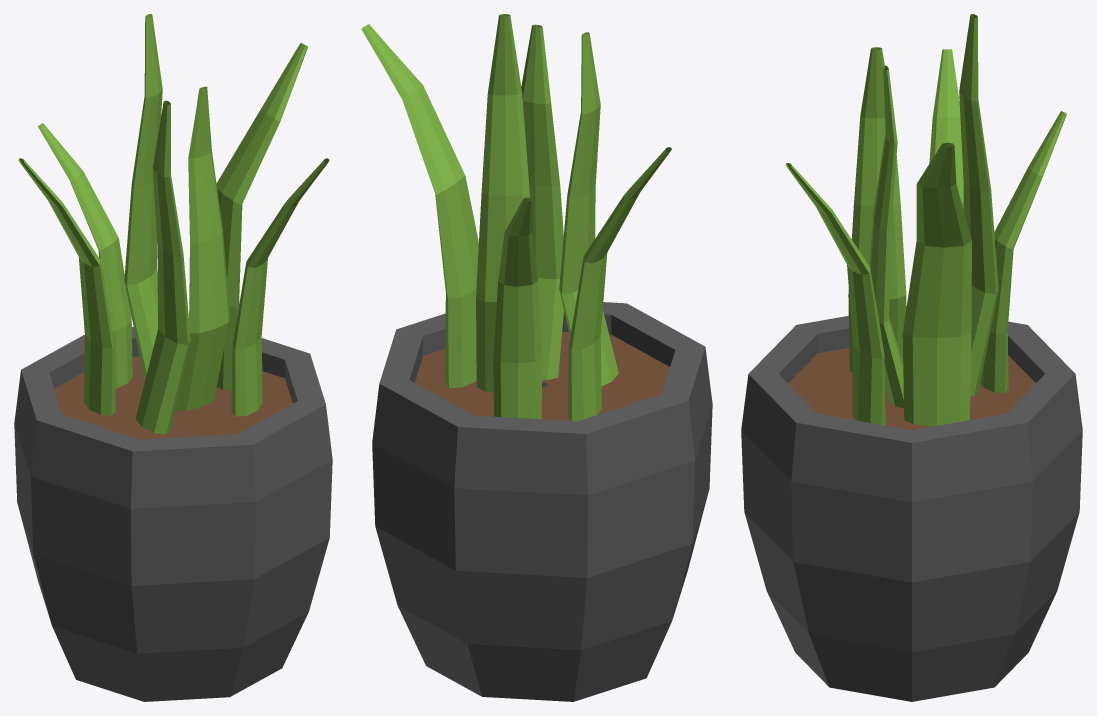
File: Planta_Maceta_002.fbx
3 views of the same model, side by side, from view 1: azimuth 30°, elevation 25°; view 2: azimuth 150°, elevation 25°; view 3: azimuth 270°, elevation 25° (orthographic). The views are drawn at different scales.
Visible parts, largest first — view 1: Maceta; view 2: Maceta; view 3: Maceta.
Boxes of the visible parts, <box> form: Maceta: <box>14,14,332,701</box>; Maceta: <box>361,14,712,701</box>; Maceta: <box>741,14,1082,701</box>.
Bounding box in the file's own units: 49.13 × 98.82 × 47.86.
Materials: 3 (3 with a texture image).
